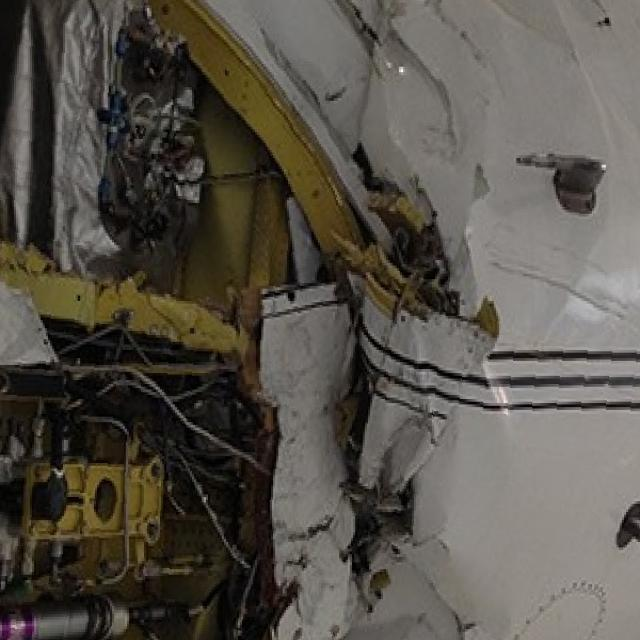crack: (333, 474, 427, 559), (421, 576, 477, 640)
